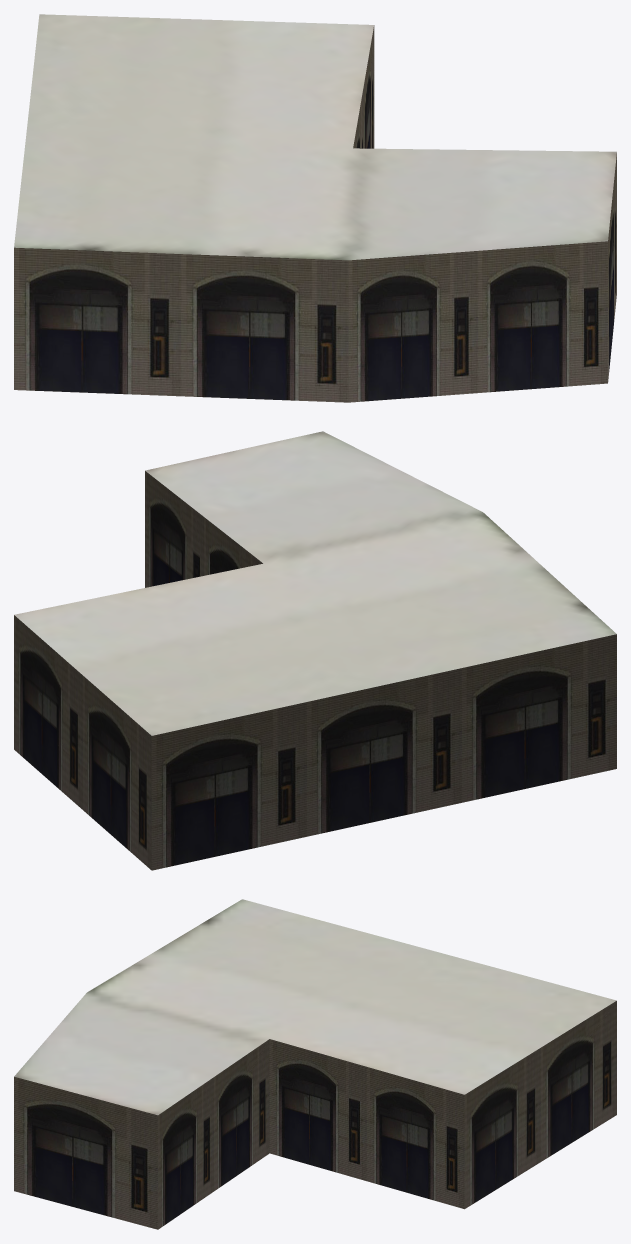
Rendered from T_1T1KS4NWCF.dae.
The picture shows the model from 3 angles, top to bottom: view 1: azimuth 30°, elevation 25°; view 2: azimuth 150°, elevation 25°; view 3: azimuth 270°, elevation 25°; orthographic projection. The views are drawn at different scales.
Parts seen in each view (by area): view 1: SketchUp (×5); view 2: SketchUp (×4); view 3: SketchUp (×5).
Part boxes in pixels (x1,y1,x2,y2): SketchUp (×5): (14,14,616,402); SketchUp (×4): (14,431,616,870); SketchUp (×5): (14,899,616,1229).
Bounding box in the file's own units: 16.85 × 19.86 × 4.16.
2 materials, 2 textured.
